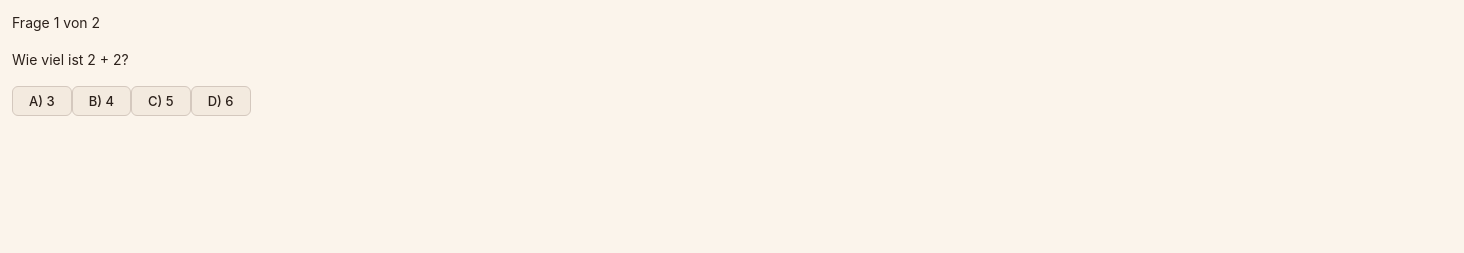
Test: QuizSession — anklickbare Multiple-Choice-Antworten › zeigt den Score direkt im Abschluss-Screen
Click the button "B) 4" at (101,101), box [72, 86, 131, 116]
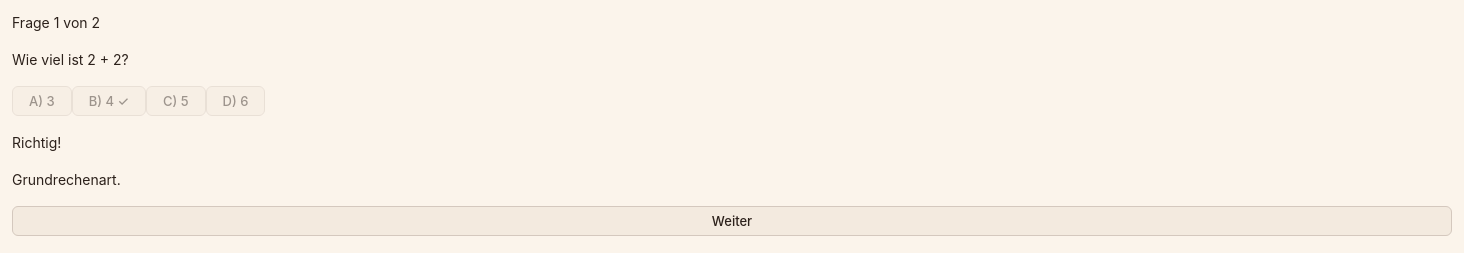
Click the button "Weiter" at (732,221), box [12, 206, 1452, 236]
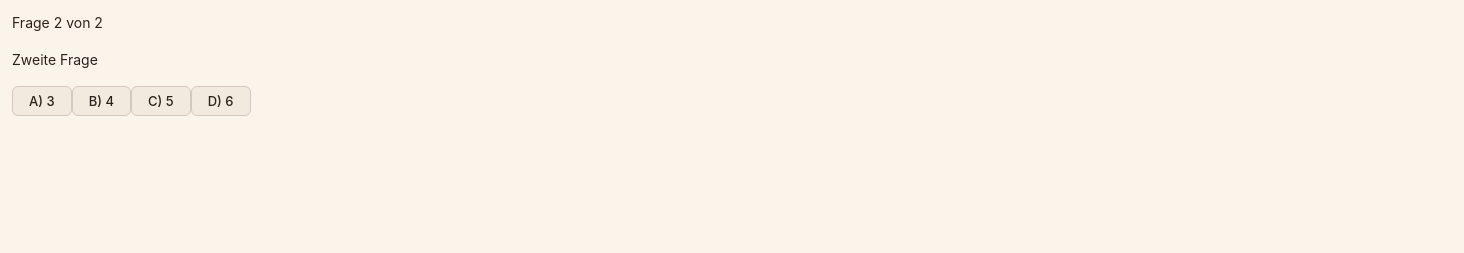
Click the button "A) 3" at (42,101), box [12, 86, 72, 116]
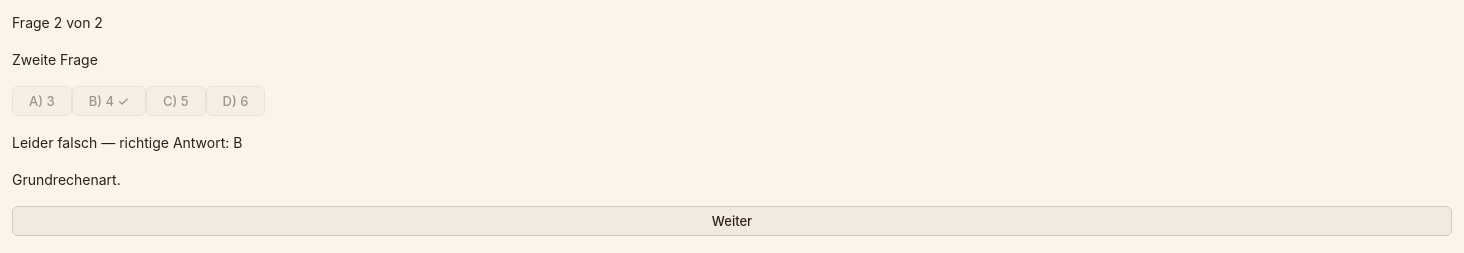
Click the button "Weiter" at (732,221), box [12, 206, 1452, 236]
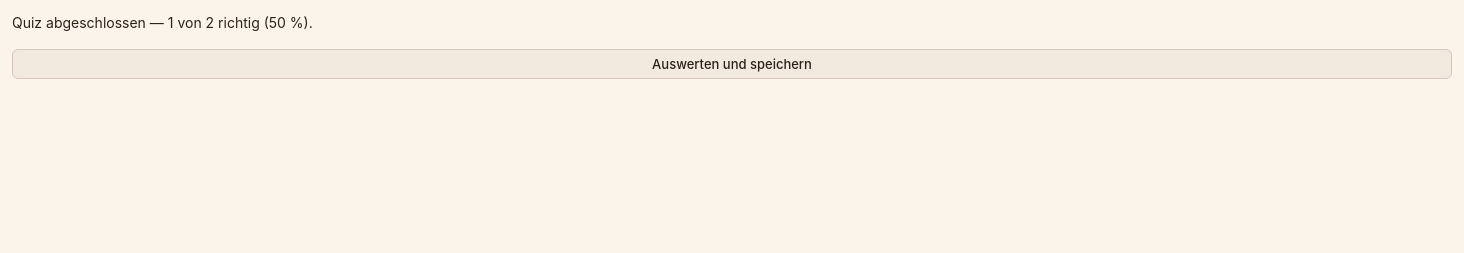
Check: the text "Quiz abgeschlossen — 1 von 2 richtig (50 %)." is shown, box [12, 14, 313, 31]
